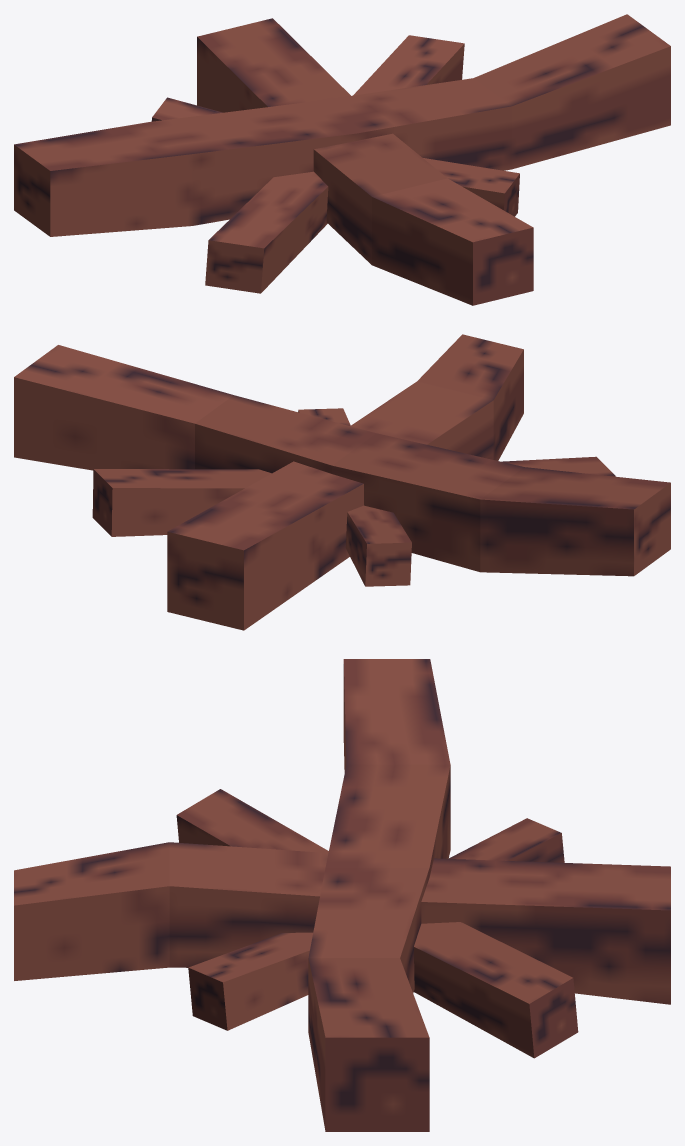
Rendered from Fogueira.fbx.
3 renders of one model, top to bottom at view 1: azimuth 30°, elevation 25°; view 2: azimuth 150°, elevation 25°; view 3: azimuth 270°, elevation 25°, orthographic. The views are drawn at different scales.
Visible parts, largest first — view 1: Fogueira; view 2: Fogueira; view 3: Fogueira.
Boxes of the visible parts, x1,y1,x2,y2 form: Fogueira: (14,14,670,305); Fogueira: (14,334,670,630); Fogueira: (14,659,670,1131).
Size of the model in its own units: 293 by 228 by 52.42.
